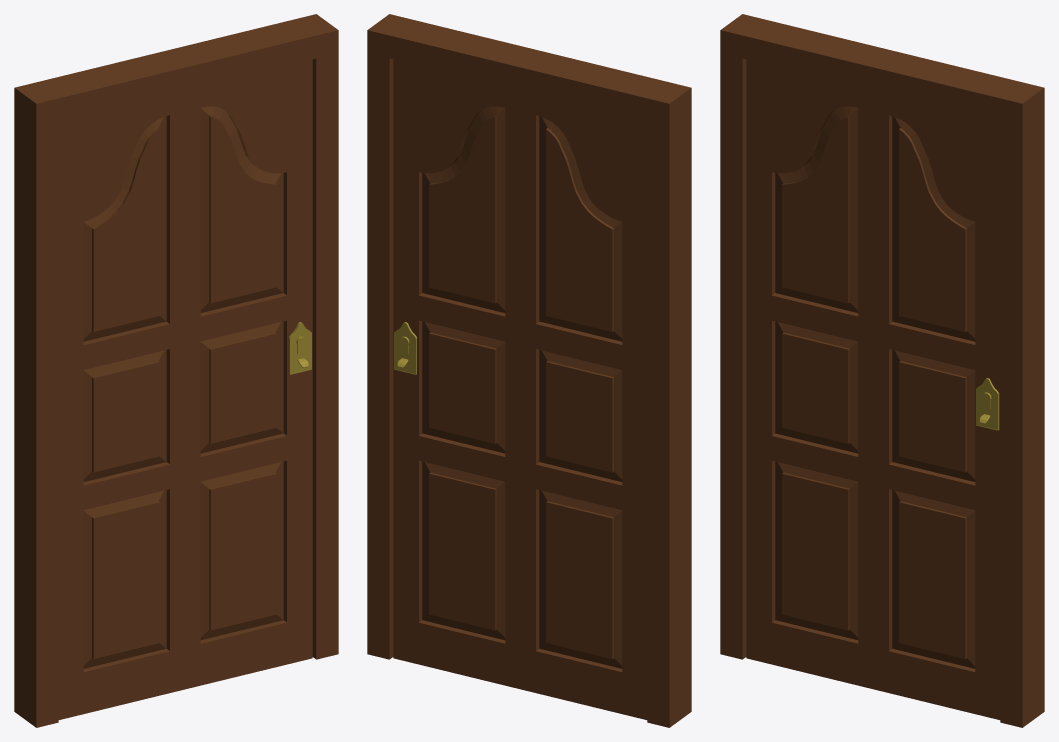
Rendered from Wood_Door.glb.
3 renders of one model, left to right at view 1: azimuth 30°, elevation 25°; view 2: azimuth 150°, elevation 25°; view 3: azimuth 330°, elevation 25°, orthographic.
Parts seen in each view (by area): view 1: Puerta Madera, Wooden Frame, Lock; view 2: Puerta Madera, Wooden Frame, Lock; view 3: Puerta Madera, Wooden Frame, Lock.
Part boxes in pixels (bbox=[...]): Puerta Madera: bbox=[58, 59, 312, 719]; Wooden Frame: bbox=[14, 14, 338, 727]; Lock: bbox=[289, 322, 311, 374]; Puerta Madera: bbox=[393, 59, 647, 719]; Wooden Frame: bbox=[367, 14, 691, 727]; Lock: bbox=[394, 322, 416, 374]; Puerta Madera: bbox=[746, 59, 1000, 719]; Wooden Frame: bbox=[720, 14, 1044, 727]; Lock: bbox=[976, 378, 999, 430].
Size of the model in its own units: 475 by 937 by 81.02.
